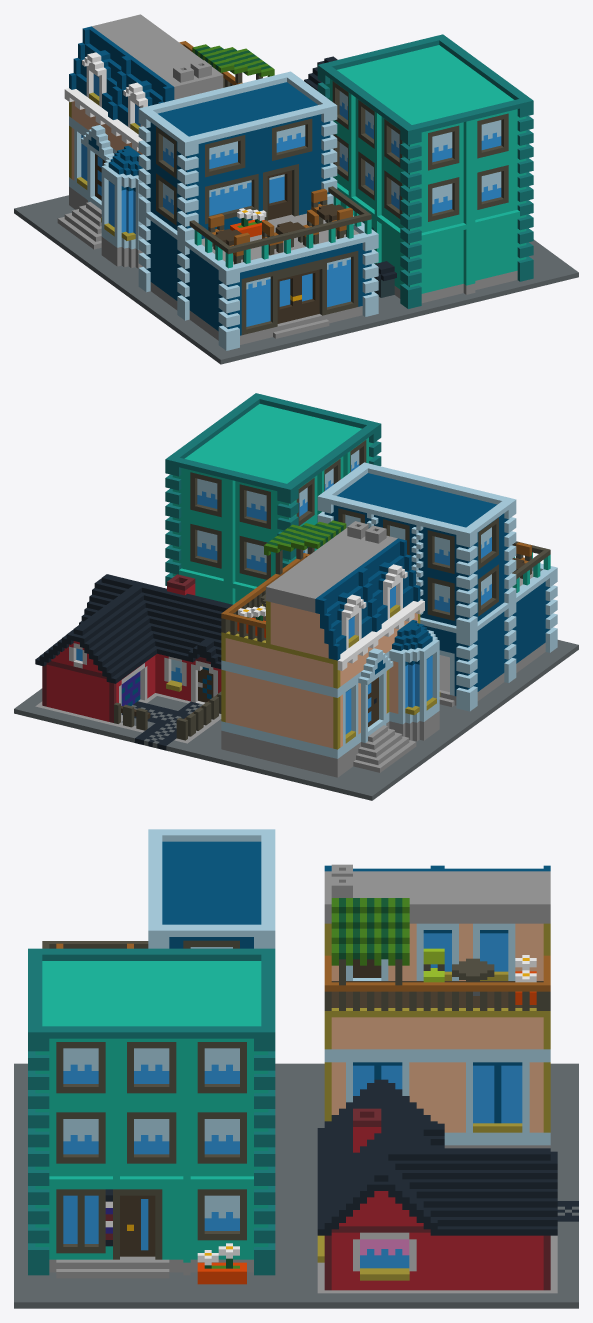
File: building_medium_1_overtile.obj
3 renders of one model, top to bottom at view 1: azimuth 30°, elevation 25°; view 2: azimuth 150°, elevation 25°; view 3: azimuth 270°, elevation 25°, orthographic. The views are drawn at different scales.
Bounding box in the file's own units: 8 × 4 × 8.
Materials: 1 (1 with a texture image).
